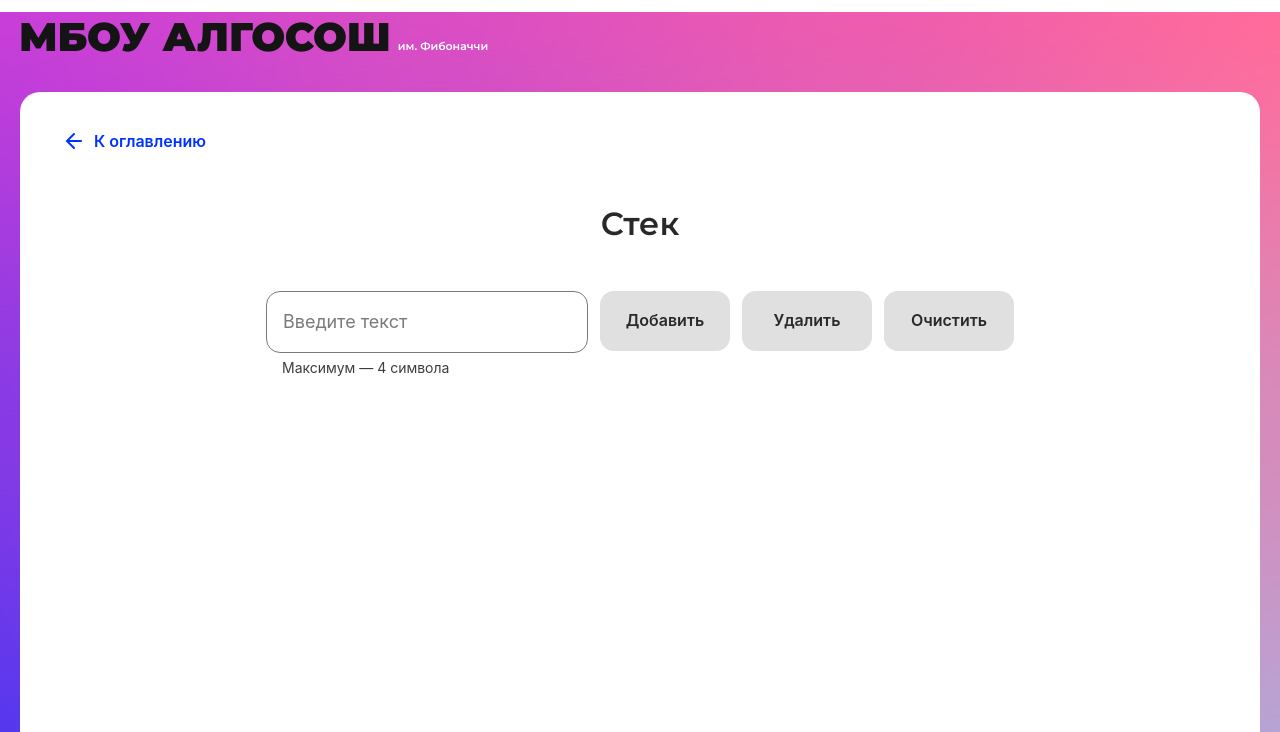
Test case: Страница стека › правильное добавление элемента в стек
Type "I1" into the field with placeholder "Введите текст".
click(427, 322); type("I1")  # box x1=266 y1=291 x2=588 y2=353
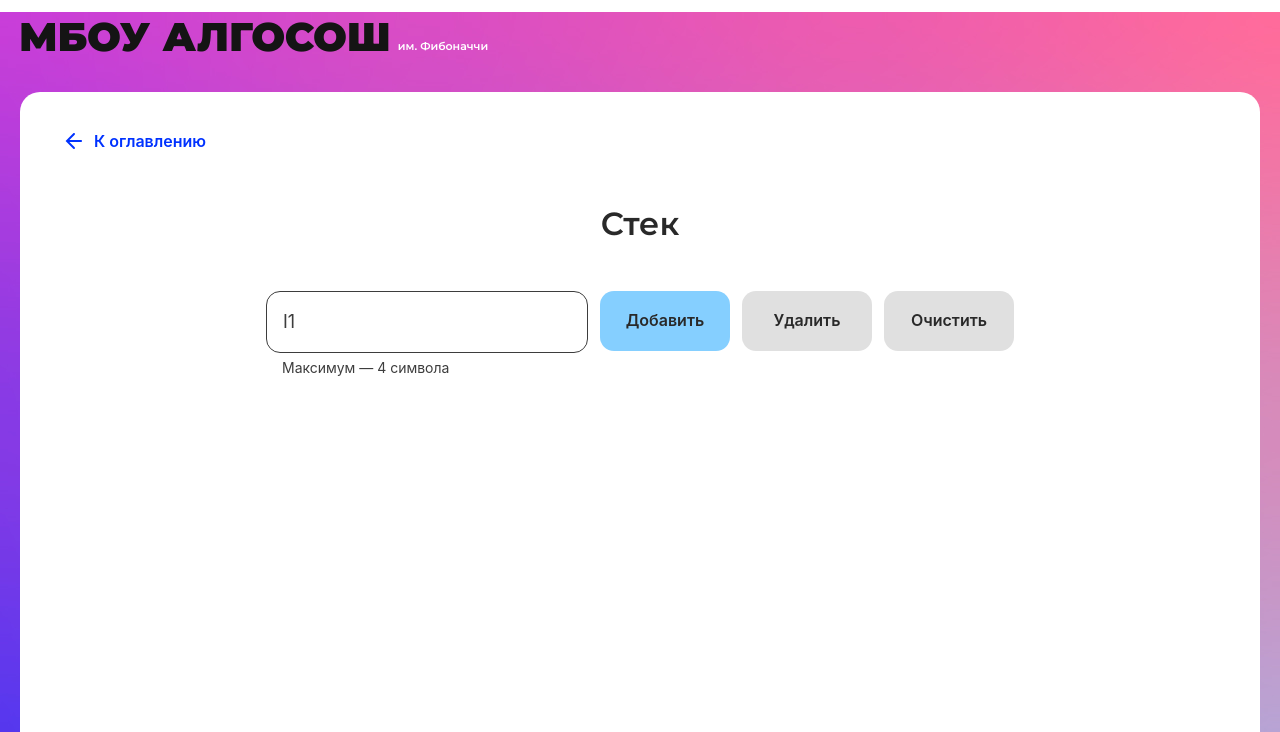
Click the button "Добавить".
click(665, 321)  # box x1=600 y1=291 x2=730 y2=351
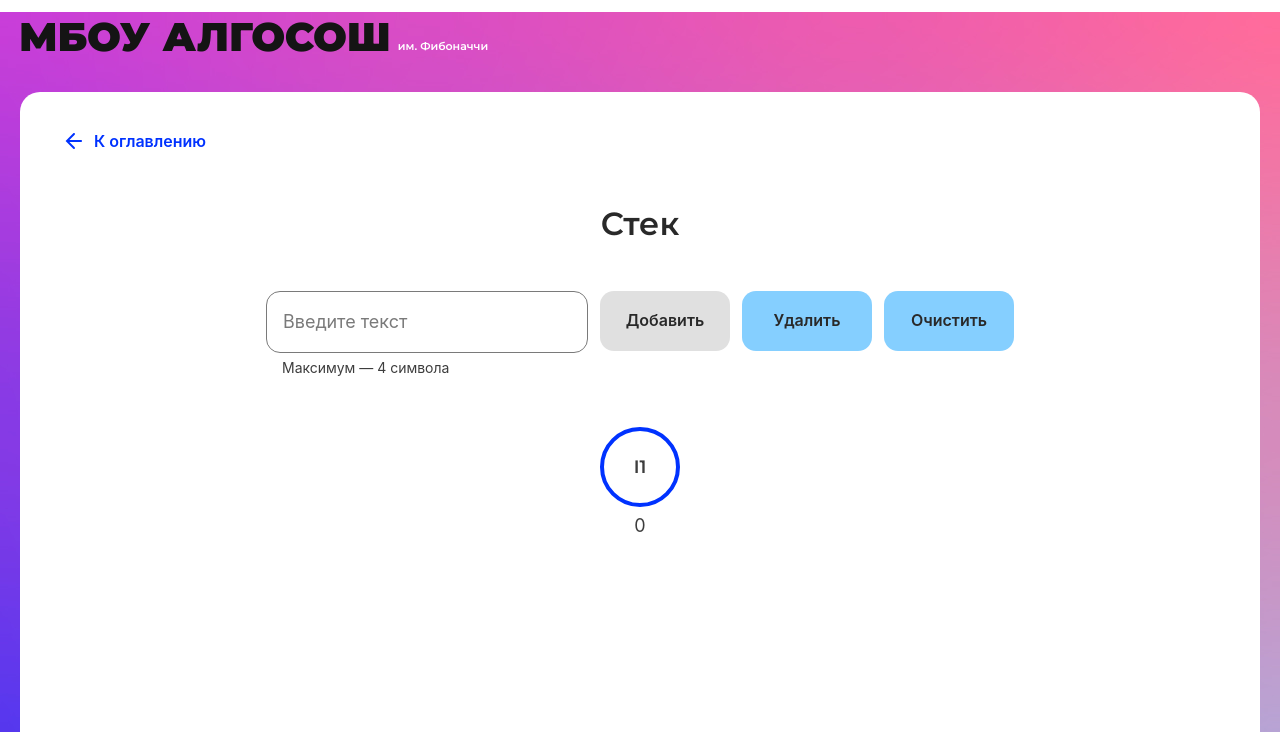
Check: the element showing "I1 0" is shown, box x1=600 y1=427 x2=680 y2=507
